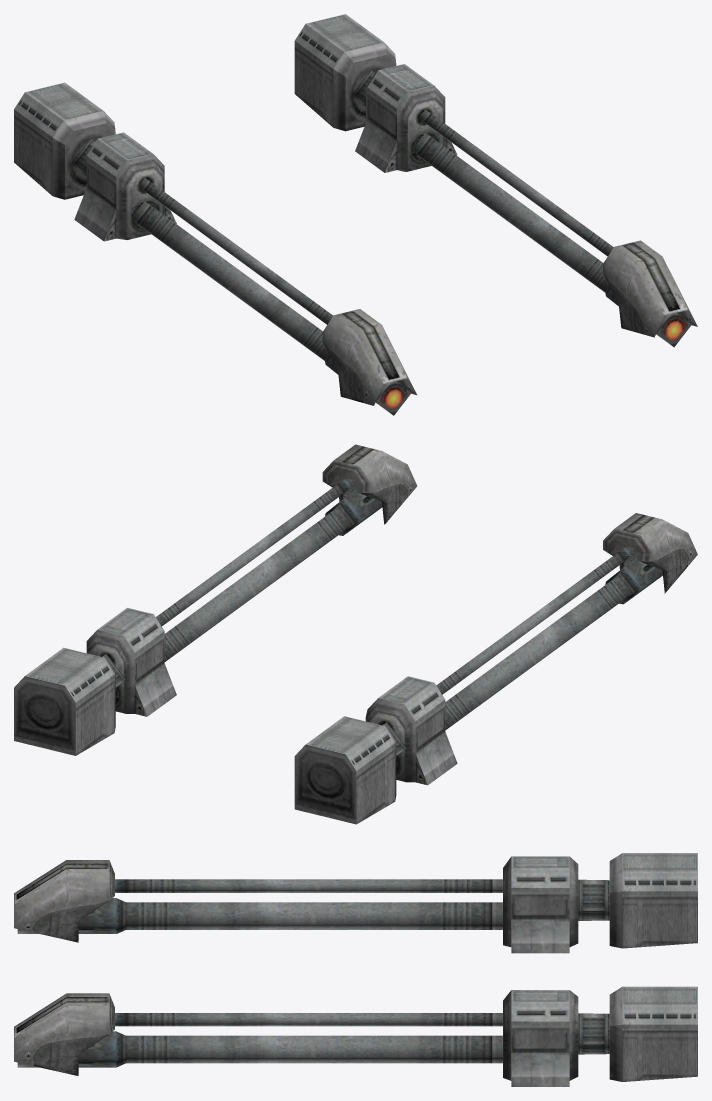
Rendered from bwing_weapon1_s06_l1.fbx.
3 renders of one model, top to bottom at view 1: azimuth 30°, elevation 25°; view 2: azimuth 150°, elevation 25°; view 3: azimuth 270°, elevation 25°, orthographic. The views are drawn at different scales.
Visible parts, largest first — view 1: mesh_node; view 2: mesh_node; view 3: mesh_node.
Part boxes in pixels (<box>): mesh_node: <box>14,14,697,415</box>; mesh_node: <box>14,444,697,824</box>; mesh_node: <box>14,853,697,1086</box>.
Size of the model in its own units: 0.8403 by 0.1709 by 1.44.
